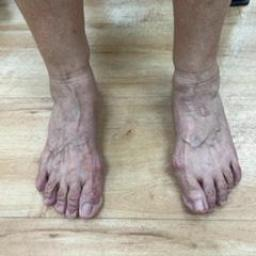Dorsal View -Both Feet-: (8, 20, 252, 234)
